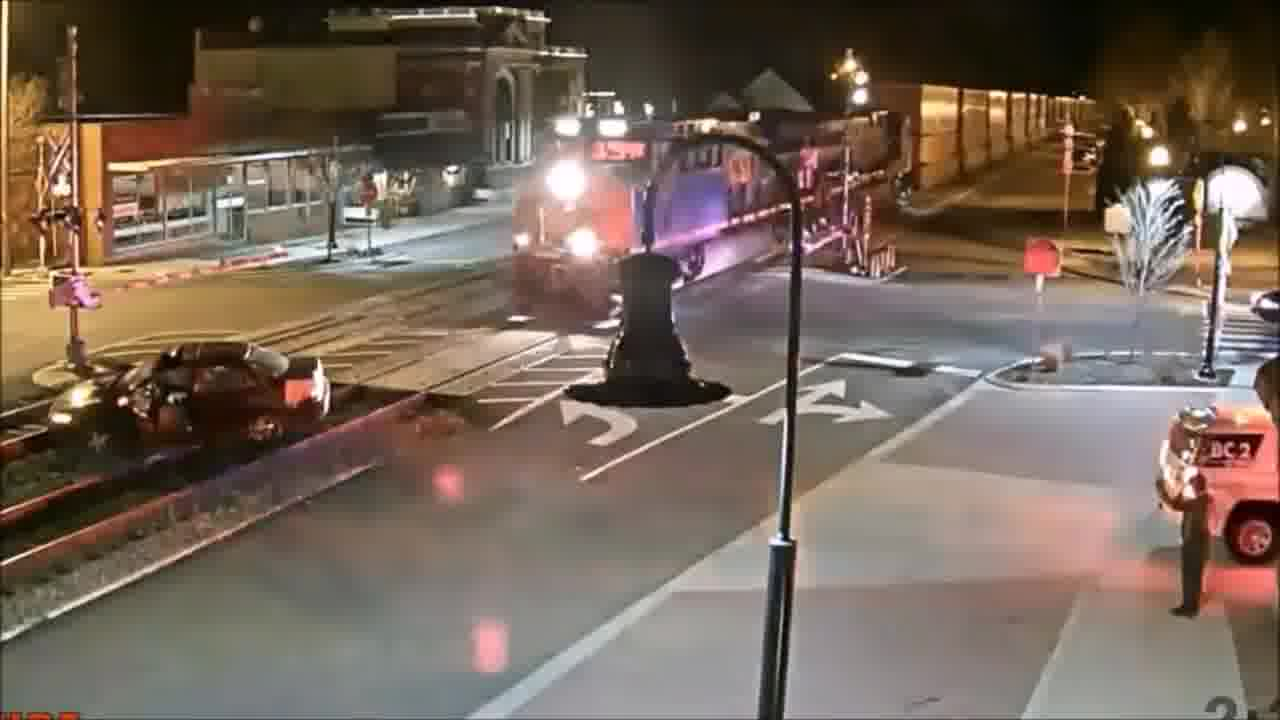crossing railway track: (37, 339, 337, 466)
